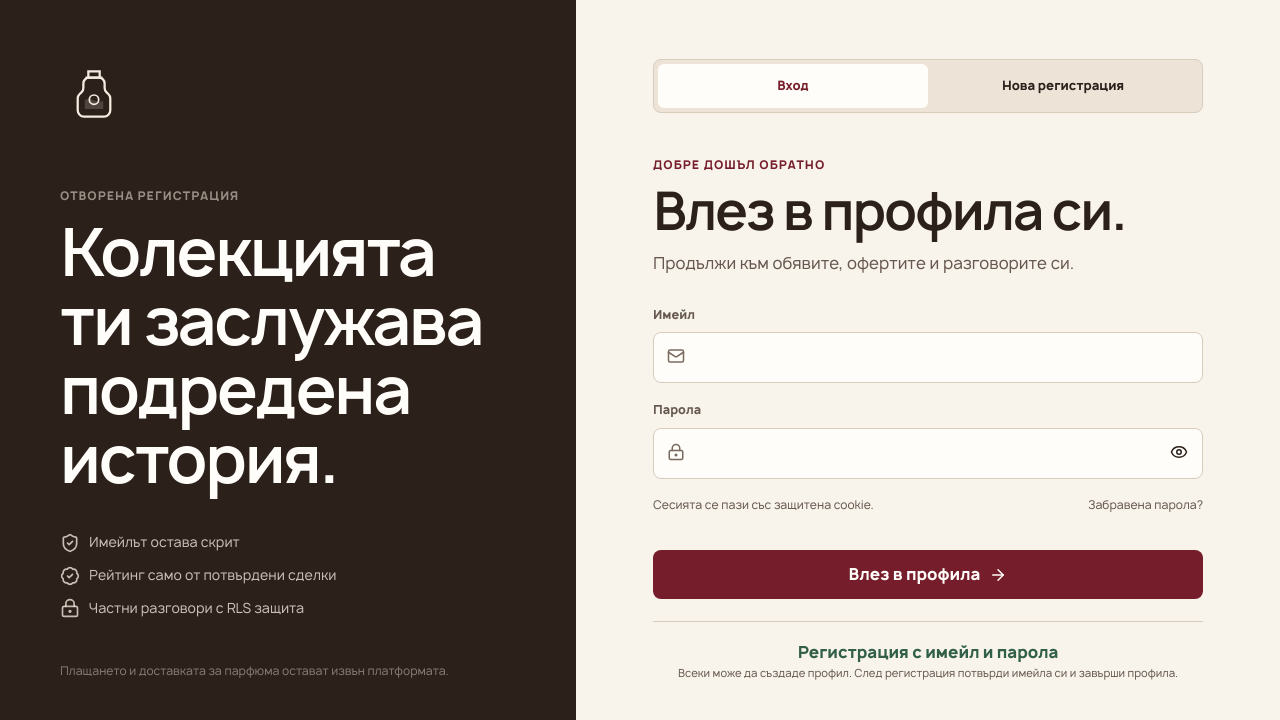
Test: registration Turnstile challenge › uses one action-specific challenge for the active login or registration mode
The image size is (1280, 720).
Submit the form, box [653,306,1203,599]
Expected: the submit button is enabled, [653,550,1203,599]
Click the button "Нова регистрация".
click(1063, 86)  # box [928,64,1198,108]
(page scrolled)
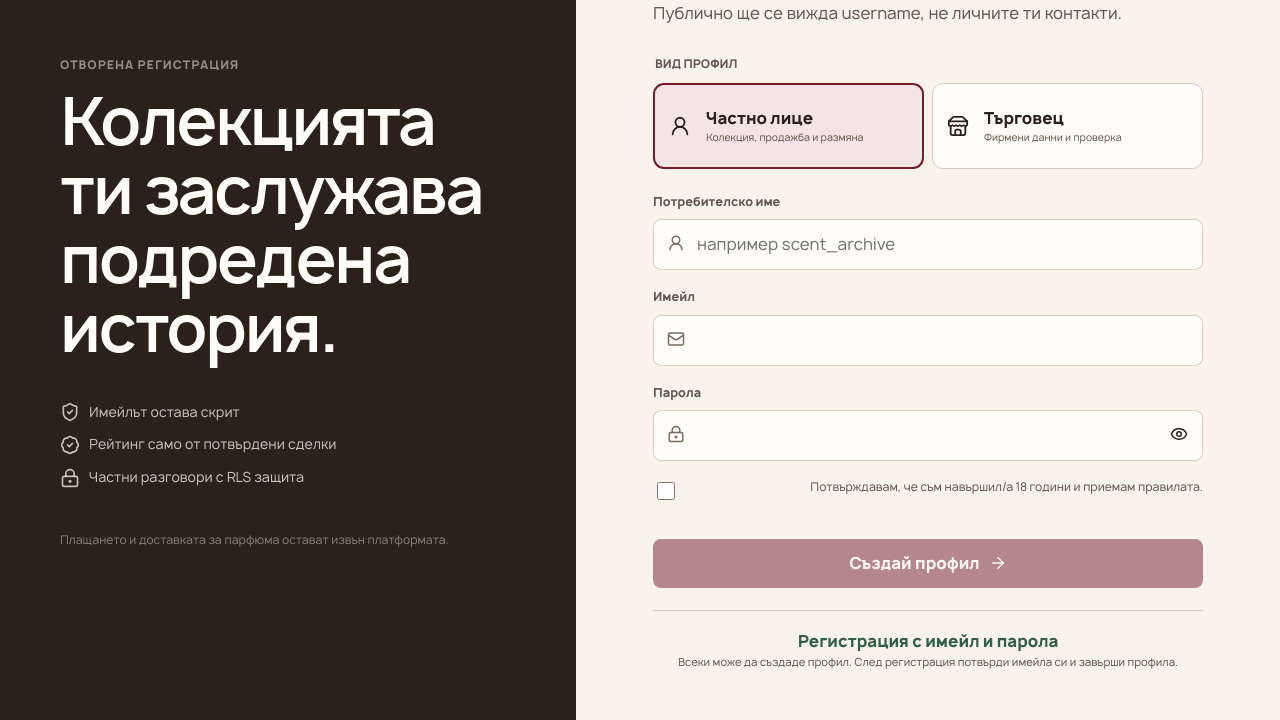
Expected: the checkbox named "ageAccepted" is shown, [657,482,675,500]
